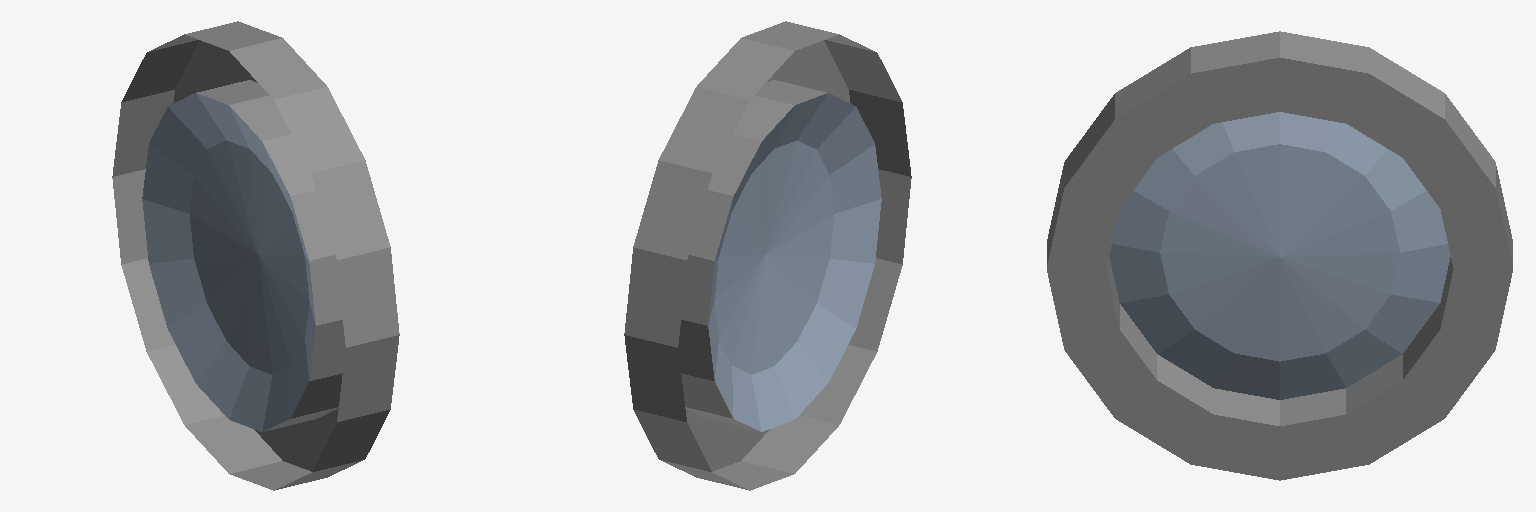
File: porthole.obj
3 renders of one model, left to right at view 1: azimuth 30°, elevation 25°; view 2: azimuth 150°, elevation 25°; view 3: azimuth 270°, elevation 25°, orthographic.
Parts seen in each view (by area): view 1: Circle; view 2: Circle; view 3: Circle.
Part boxes in pixels (left/top/right/bottom): Circle: left=112, top=21, right=399, bottom=490; Circle: left=624, top=21, right=911, bottom=490; Circle: left=1047, top=31, right=1512, bottom=480.
Size of the model in its own units: 0.04 by 0.3 by 0.3.